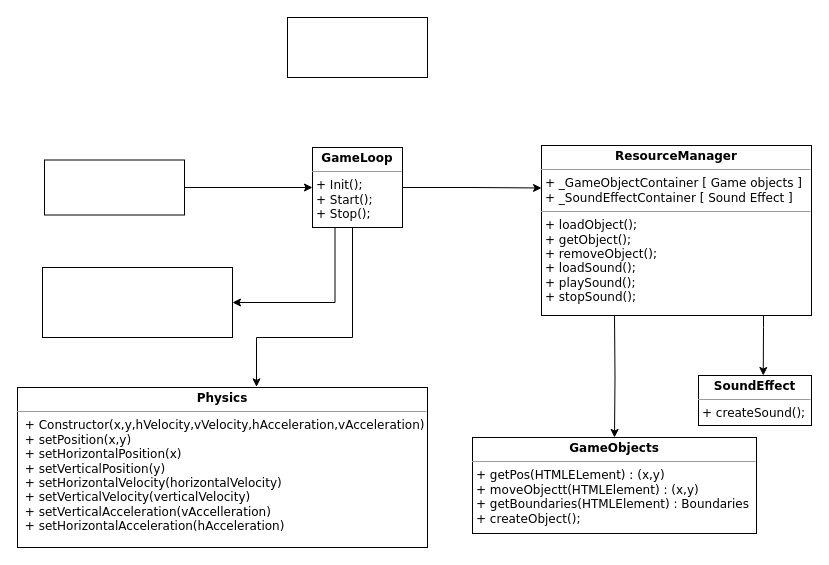
Some shapes in this 829 by 565 pixel diagram are drawn without their labels. Here are the shapes that lost their labels. From the top down, the box of each, then its label:
(286, 16, 428, 78): SpælDemo
(44, 159, 184, 215): HID + getInput(KeyCode)
(42, 266, 232, 338): Collider + Collider(HTMLElement); + bool hasCollided(Collider C)
